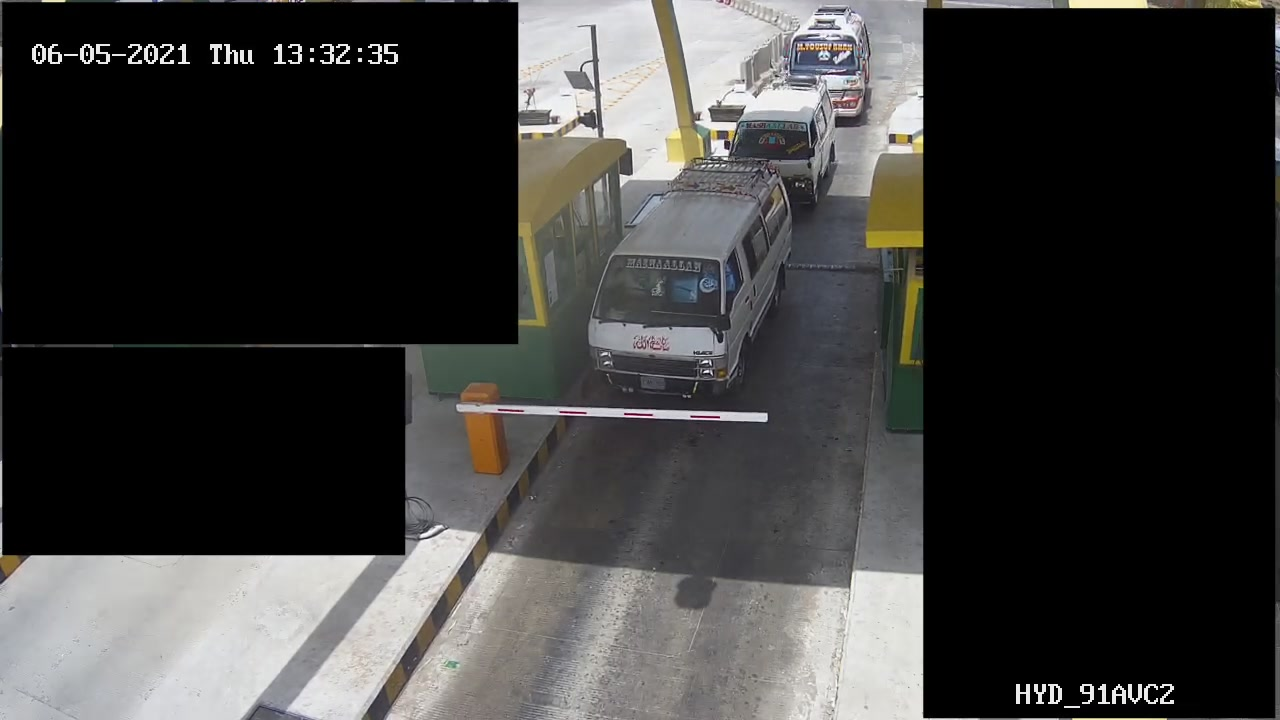F2: (585, 150, 792, 405)
